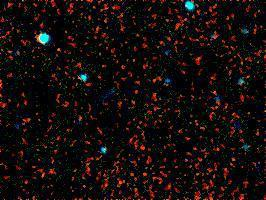star: (184, 45, 214, 75)
